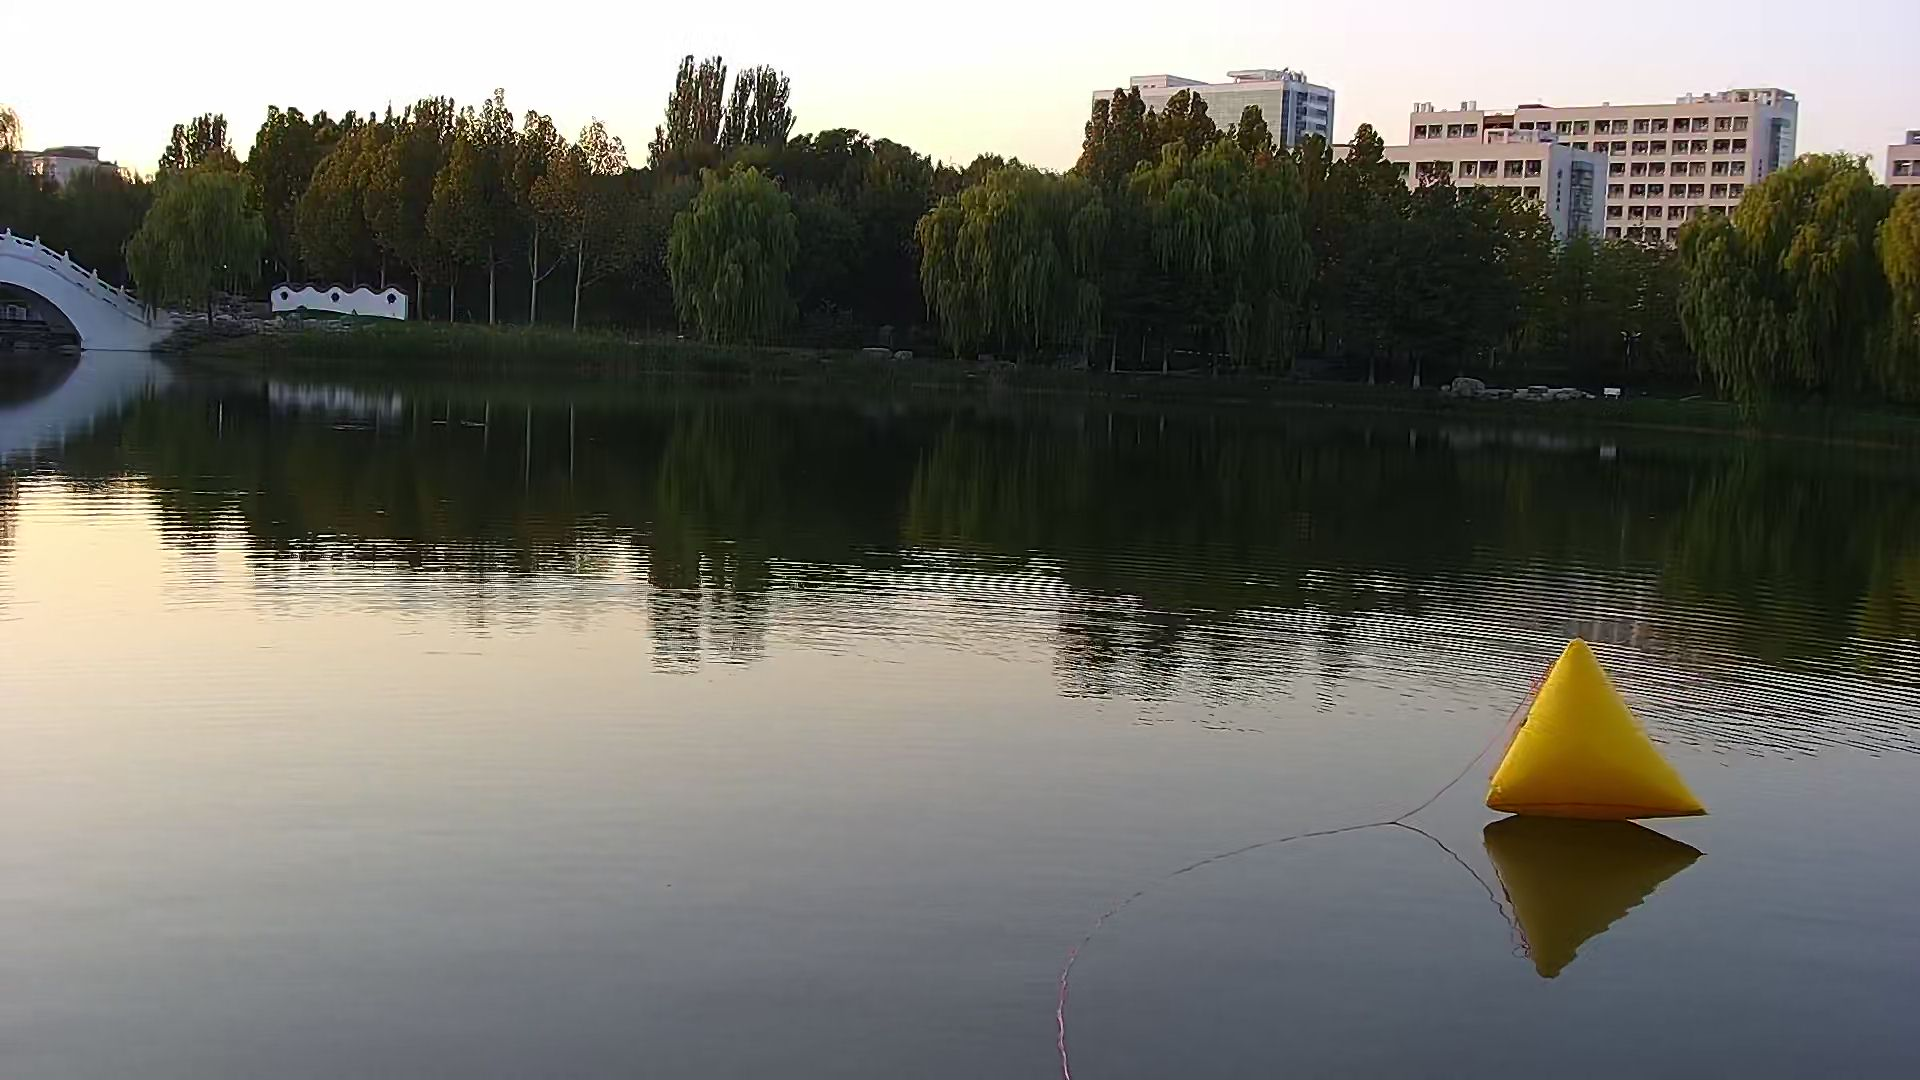rubbish: (1487, 629, 1720, 829)
